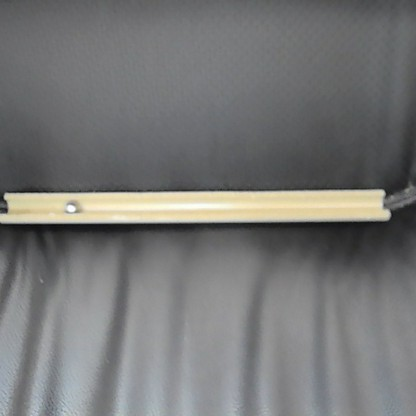ironball: (61, 198, 80, 214)
